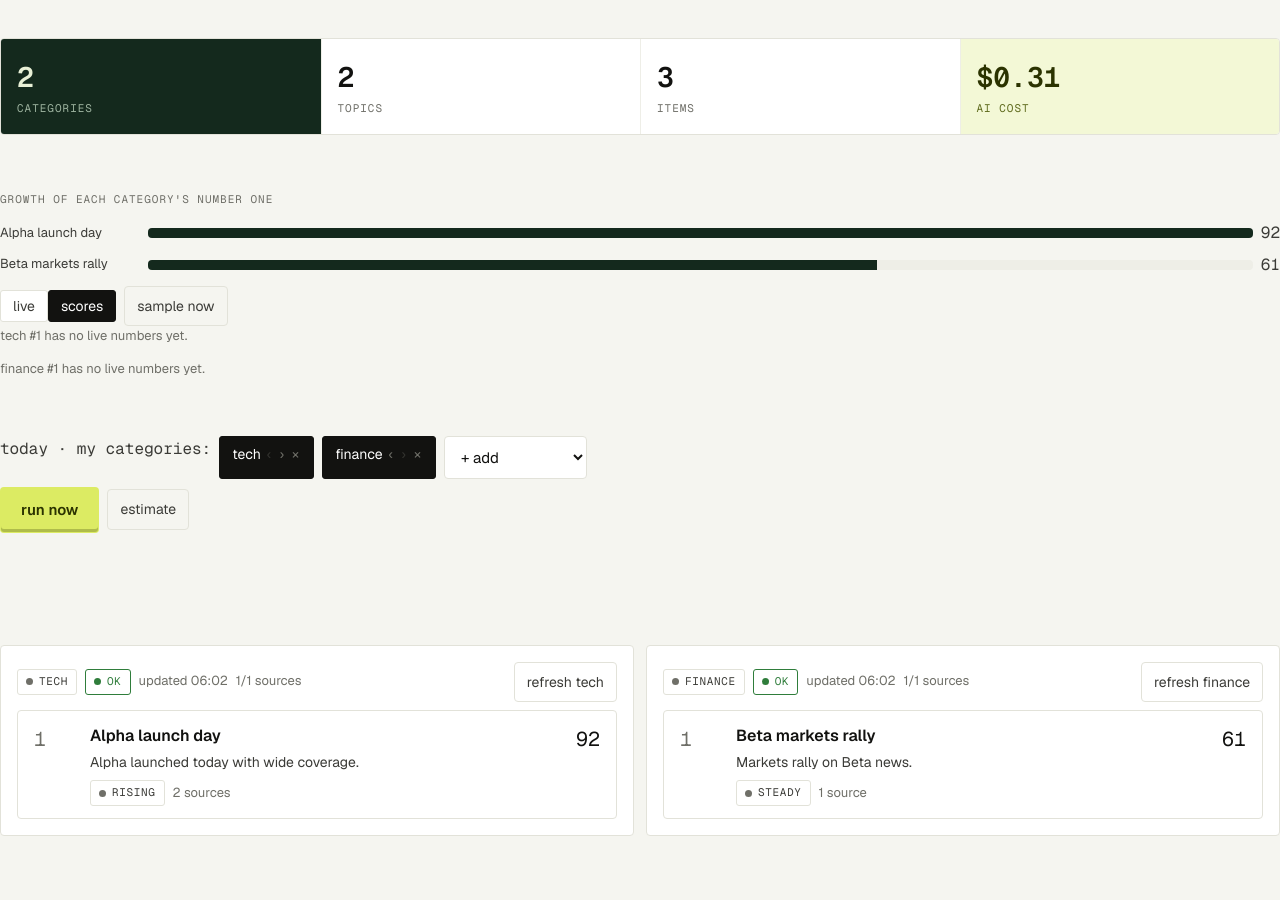
it: Today page › UI-05 side panel shows score parts, angles and evidence links
(page scrolled)
What coordinates should you click on to do the following:
click the button "Alpha launch day"
I would click on:
 (317, 764)
Its box is [17,710,617,819].
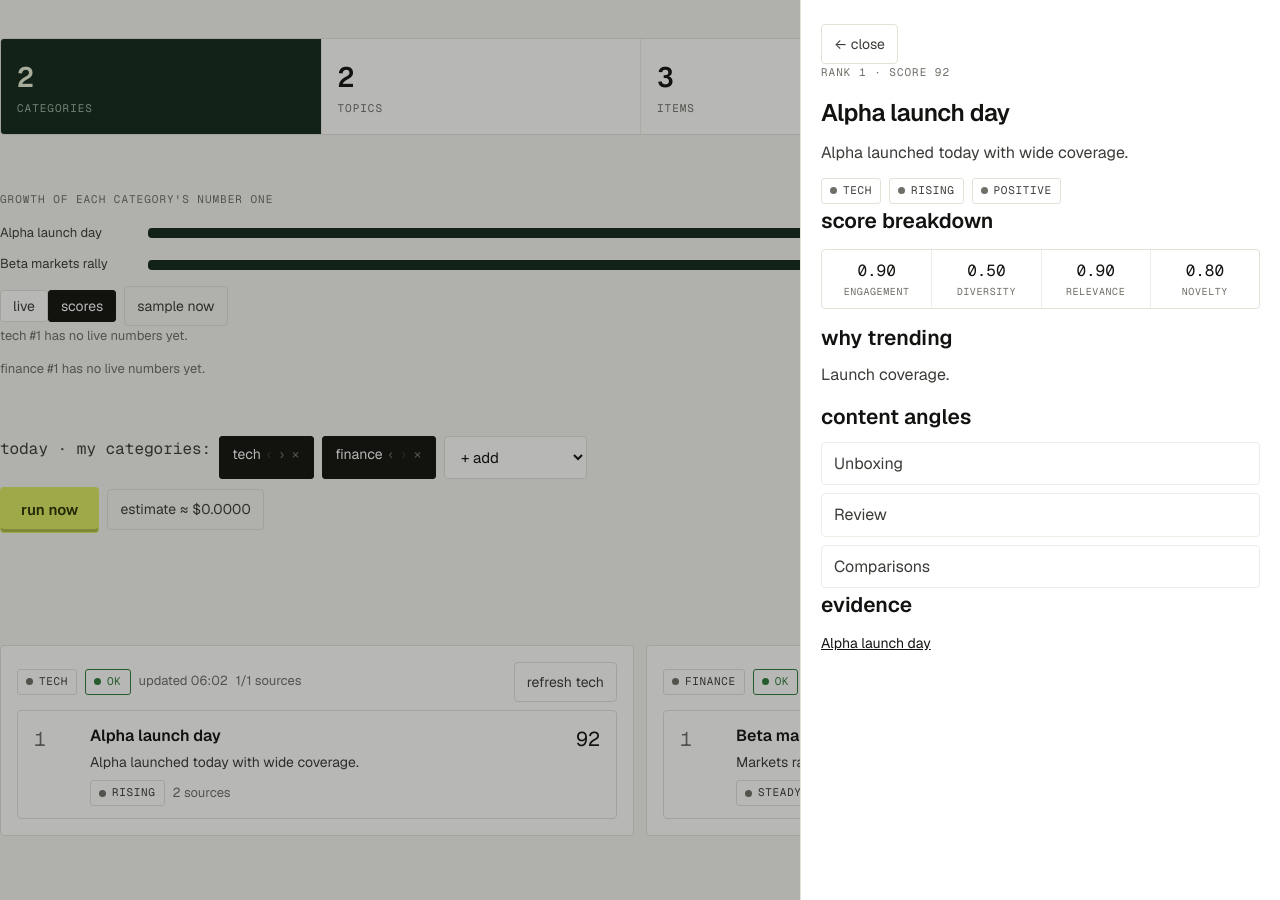
Result: the dialog shows "score breakdown" at [821,207,993,234]
Result: the dialog shows "Unboxing" at [834,452,903,474]
Result: the dialog shows "Launch coverage." at [821,364,949,385]
What coordinates should you click on to do the following:
click the button with aria-label "Close panel"
I would click on:
 (860, 44)
Its box is [821,24,898,64].
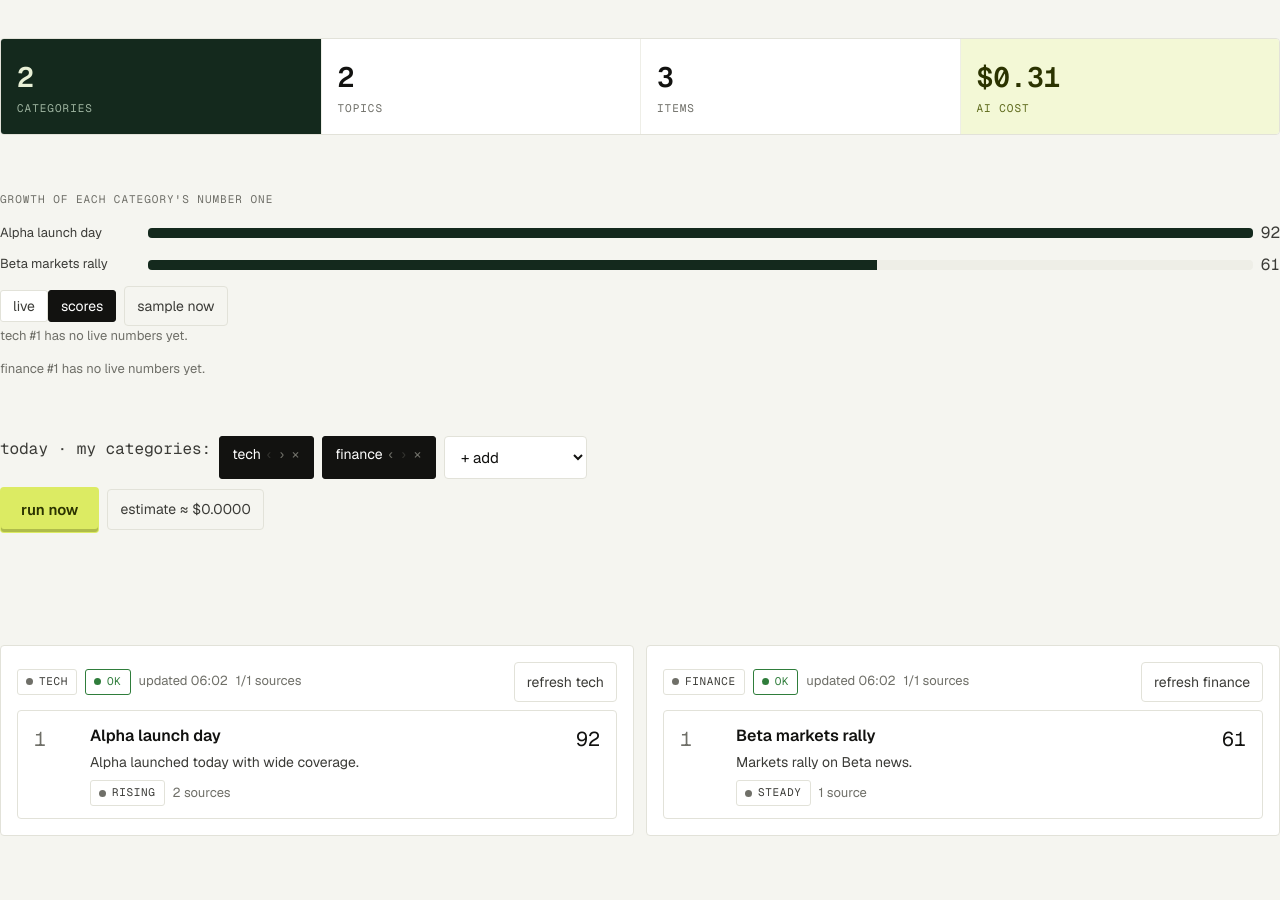
Result: the dialog is gone
